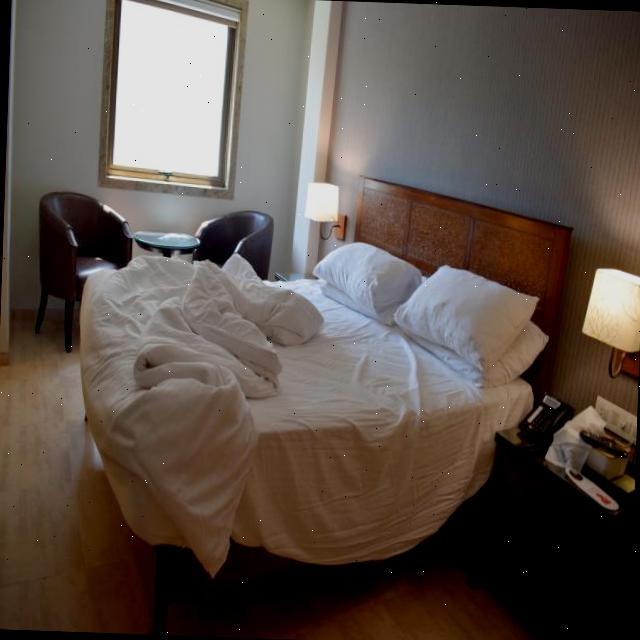Disorganized_pillow: (308, 239, 542, 387)
chair: (26, 190, 129, 353), (196, 208, 270, 280)
clean_floor: (0, 358, 561, 640)
lamp: (580, 271, 640, 380), (302, 182, 338, 244)
mess: (86, 273, 332, 411)
messy_bed: (82, 171, 573, 634)
organized table: (128, 230, 195, 258)
